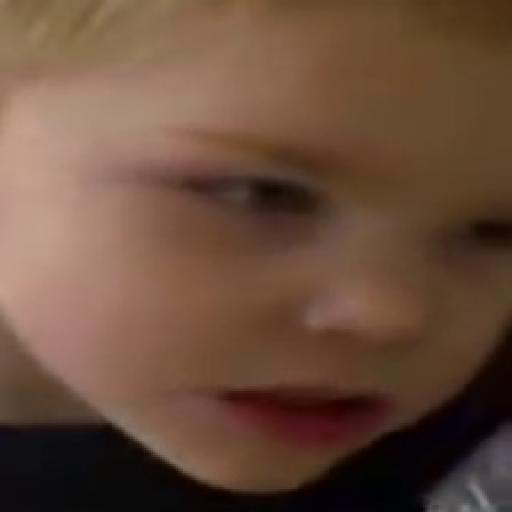Autism: (13, 24, 512, 461)
